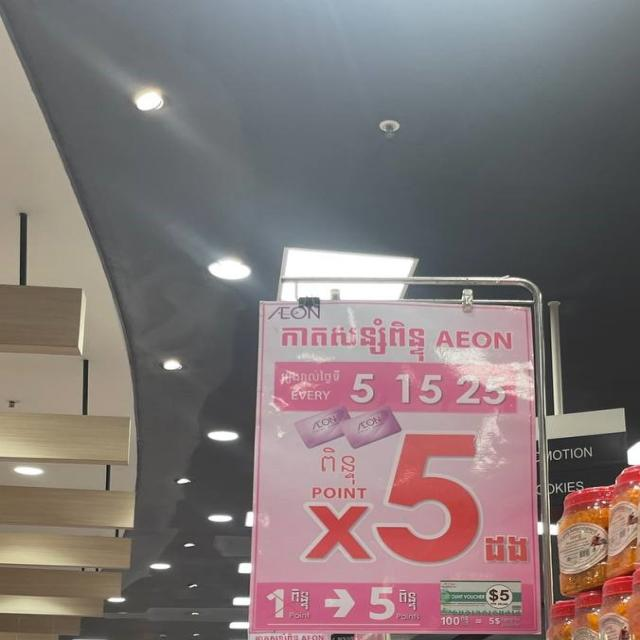503: (264, 585, 290, 622)
764: (366, 426, 491, 575), (366, 583, 399, 624), (496, 584, 511, 602)
765: (348, 368, 511, 410)
Yolov11_80vkh: (278, 318, 434, 364), (483, 528, 533, 567), (317, 446, 360, 486), (279, 364, 346, 387), (289, 588, 312, 611), (399, 588, 421, 612)
